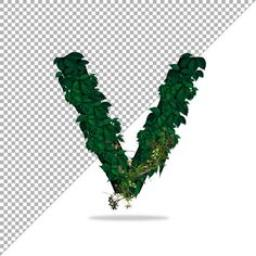v: (48, 46, 210, 218)
